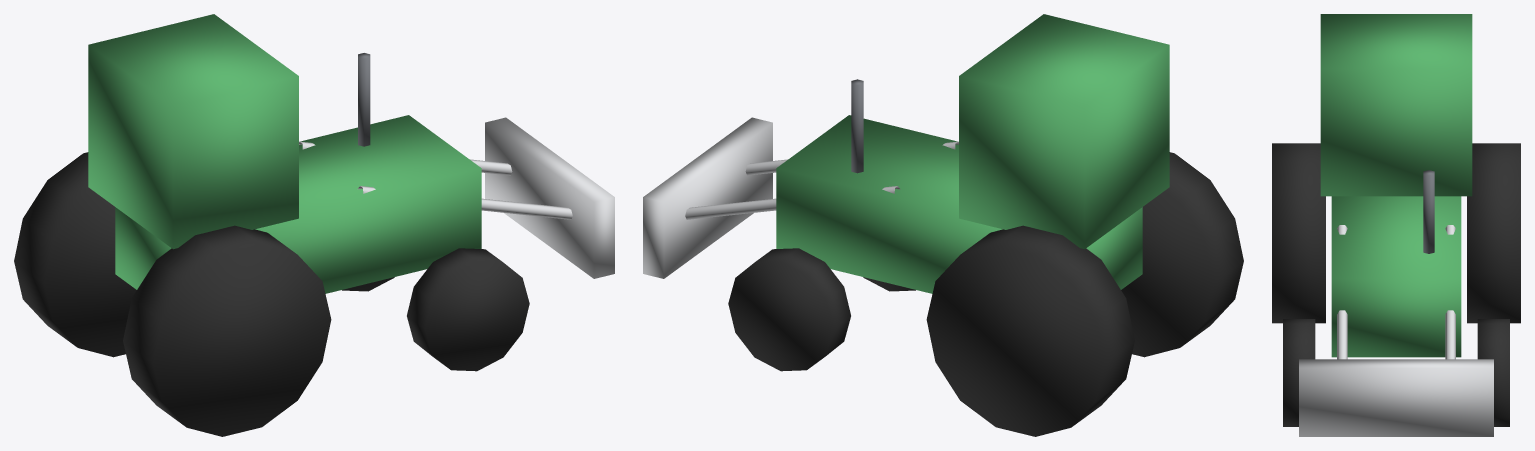
File: tractor.glb
3 renders of one model, left to right at view 1: azimuth 30°, elevation 25°; view 2: azimuth 150°, elevation 25°; view 3: azimuth 270°, elevation 25°, orthographic. The views are drawn at different scales.
Parts seen in each view (by area): view 1: tractor; view 2: tractor; view 3: tractor.
Boxes of the visible parts, x1,y1,x2,y2 form: tractor: (14, 14, 614, 436); tractor: (643, 14, 1243, 436); tractor: (1272, 14, 1520, 436).
Size of the model in its own units: 4.55 by 2.9 by 2.3.
